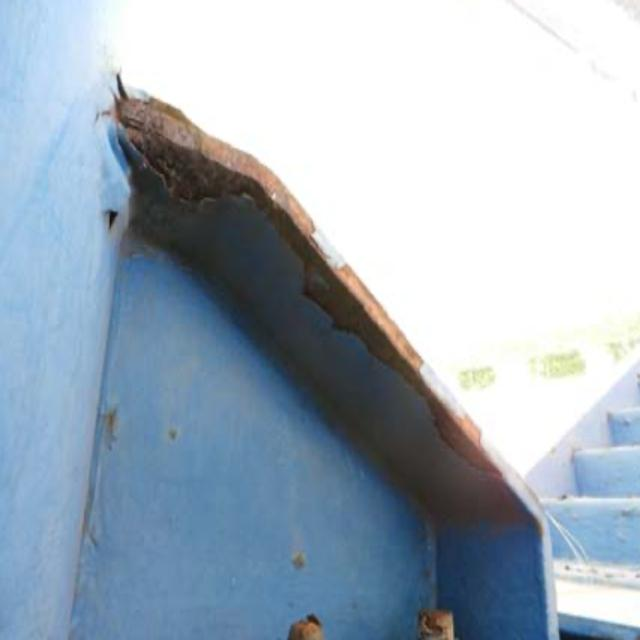corrosion: (129, 64, 520, 519)
